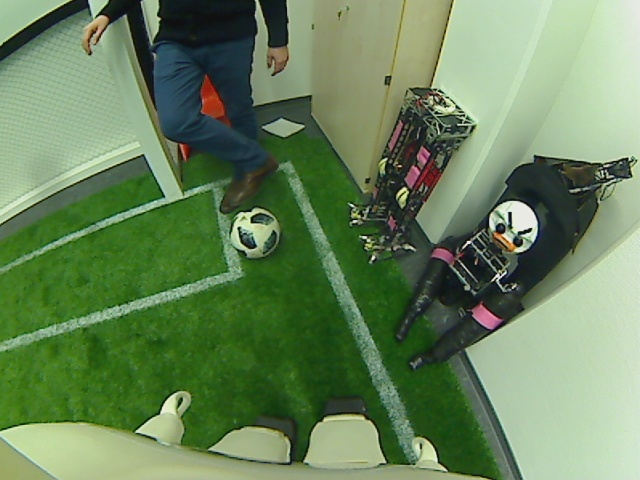ball: (228, 207, 282, 258)
